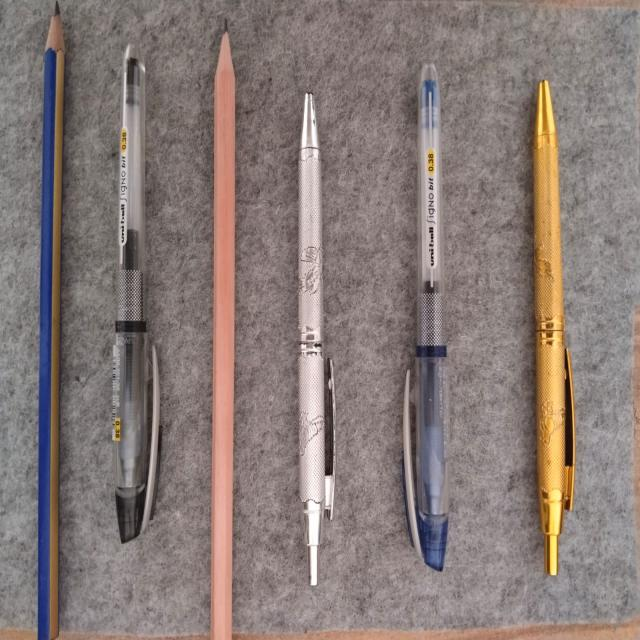pen: (112, 44, 158, 538), (405, 66, 449, 574)
pencil: (34, 3, 67, 635), (206, 18, 238, 640)
signature pen: (532, 79, 575, 573), (296, 93, 336, 585)
